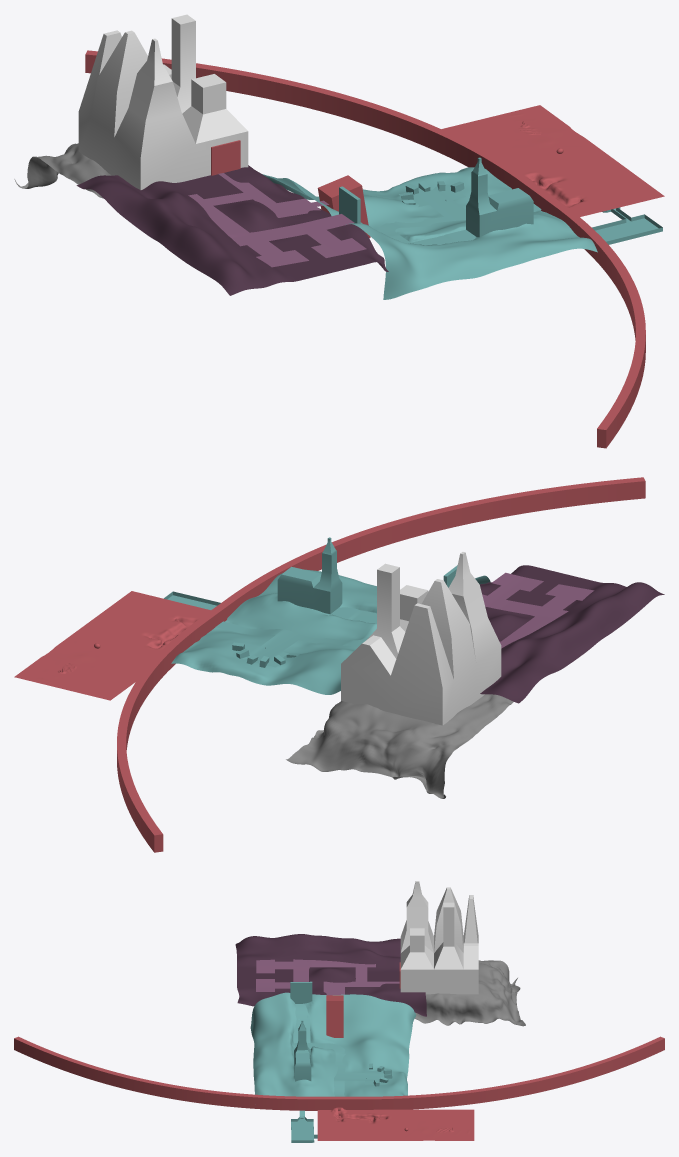
Rendered from Areiazo BlockoutV2.fbx.
3 views of the same model, one above another, from view 1: azimuth 30°, elevation 25°; view 2: azimuth 150°, elevation 25°; view 3: azimuth 270°, elevation 25° (orthographic). The views are drawn at different scales.
Visible parts, largest first — view 1: castle, upper_ruins_ground, city_ruins_map_rough:ground_city, desert_map_rough:wall, desert_map_rough:world, upper_ruins_path, city_ruins_map_rough:roads_paths, city_ruins_map_rough:church, castle_ground, ur_to_cr_shortcut, gate; view 2: castle, desert_map_rough:wall, city_ruins_map_rough:ground_city, castle_ground, upper_ruins_ground, desert_map_rough:world, upper_ruins_path, city_ruins_map_rough:roads_paths, city_ruins_map_rough:church; view 3: city_ruins_map_rough:ground_city, desert_map_rough:wall, upper_ruins_ground, castle, desert_map_rough:world, castle_ground, upper_ruins_path, city_ruins_map_rough:roads_paths, city_ruins_map_rough:church, ur_to_cr_shortcut, city_ruins_map_rough:gate_to_upper_city.
Boxes of the visible parts, x1=… form: castle: x1=78, y1=14, x2=248, y2=189; upper_ruins_ground: x1=76, y1=165, x2=388, y2=295; city_ruins_map_rough:ground_city: x1=262, y1=167, x2=597, y2=299; desert_map_rough:wall: x1=85, y1=50, x2=645, y2=448; desert_map_rough:world: x1=441, y1=105, x2=664, y2=216; upper_ruins_path: x1=188, y1=173, x2=366, y2=267; city_ruins_map_rough:roads_paths: x1=378, y1=184, x2=662, y2=245; city_ruins_map_rough:church: x1=466, y1=157, x2=533, y2=237; castle_ground: x1=14, y1=143, x2=111, y2=198; ur_to_cr_shortcut: x1=317, y1=175, x2=370, y2=237; gate: x1=211, y1=140, x2=240, y2=175; castle: x1=341, y1=552, x2=501, y2=725; desert_map_rough:wall: x1=117, y1=477, x2=645, y2=852; city_ruins_map_rough:ground_city: x1=171, y1=569, x2=490, y2=694; castle_ground: x1=286, y1=694, x2=513, y2=798; upper_ruins_ground: x1=479, y1=565, x2=664, y2=703; desert_map_rough:world: x1=14, y1=591, x2=210, y2=700; upper_ruins_path: x1=482, y1=572, x2=594, y2=648; city_ruins_map_rough:roads_paths: x1=164, y1=591, x2=376, y2=667; city_ruins_map_rough:church: x1=277, y1=537, x2=342, y2=614; city_ruins_map_rough:ground_city: x1=250, y1=992, x2=416, y2=1096; desert_map_rough:wall: x1=14, y1=1036, x2=664, y2=1110; upper_ruins_ground: x1=235, y1=934, x2=426, y2=1016; castle: x1=400, y1=881, x2=478, y2=994; desert_map_rough:world: x1=317, y1=1107, x2=474, y2=1140; castle_ground: x1=415, y1=960, x2=525, y2=1026; upper_ruins_path: x1=256, y1=959, x2=399, y2=995; city_ruins_map_rough:roads_paths: x1=291, y1=1004, x2=387, y2=1142; city_ruins_map_rough:church: x1=294, y1=1020, x2=311, y2=1081; ur_to_cr_shortcut: x1=326, y1=995, x2=343, y2=1037; city_ruins_map_rough:gate_to_upper_city: x1=290, y1=981, x2=312, y2=1003.
Bounding box in the file's own units: 28260 × 11706 × 50557.
